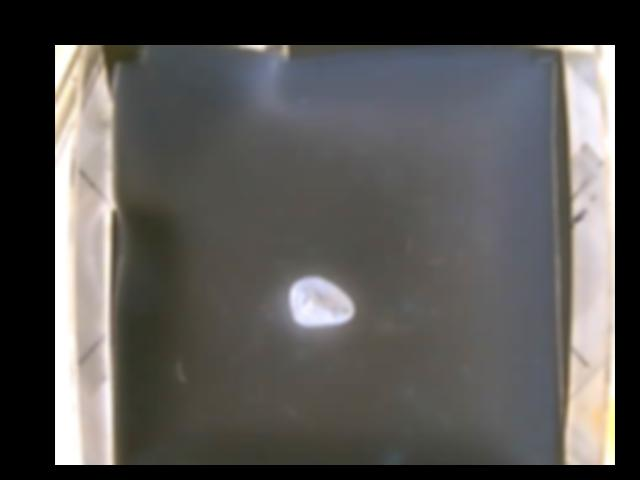Pebble: (292, 275, 354, 324)
